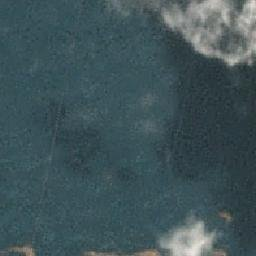cloud: (148, 1, 256, 70), (158, 212, 208, 256)
debris: (1, 242, 37, 256), (82, 249, 118, 256), (212, 245, 232, 256), (132, 248, 158, 256), (219, 210, 232, 222)
